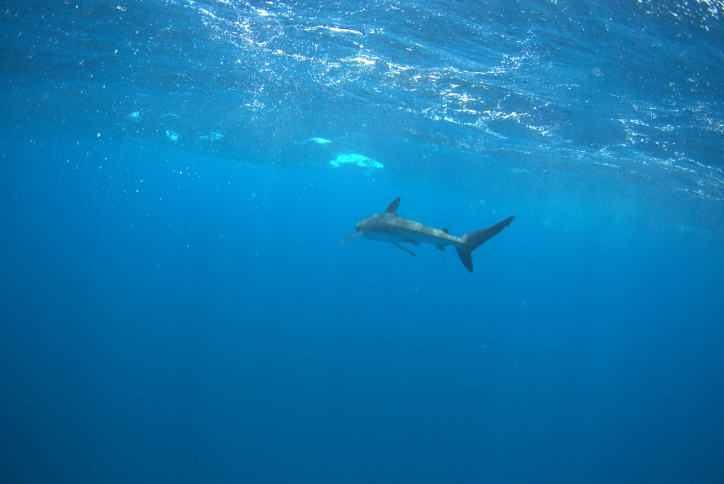Sedoso: (327, 185, 527, 283)
